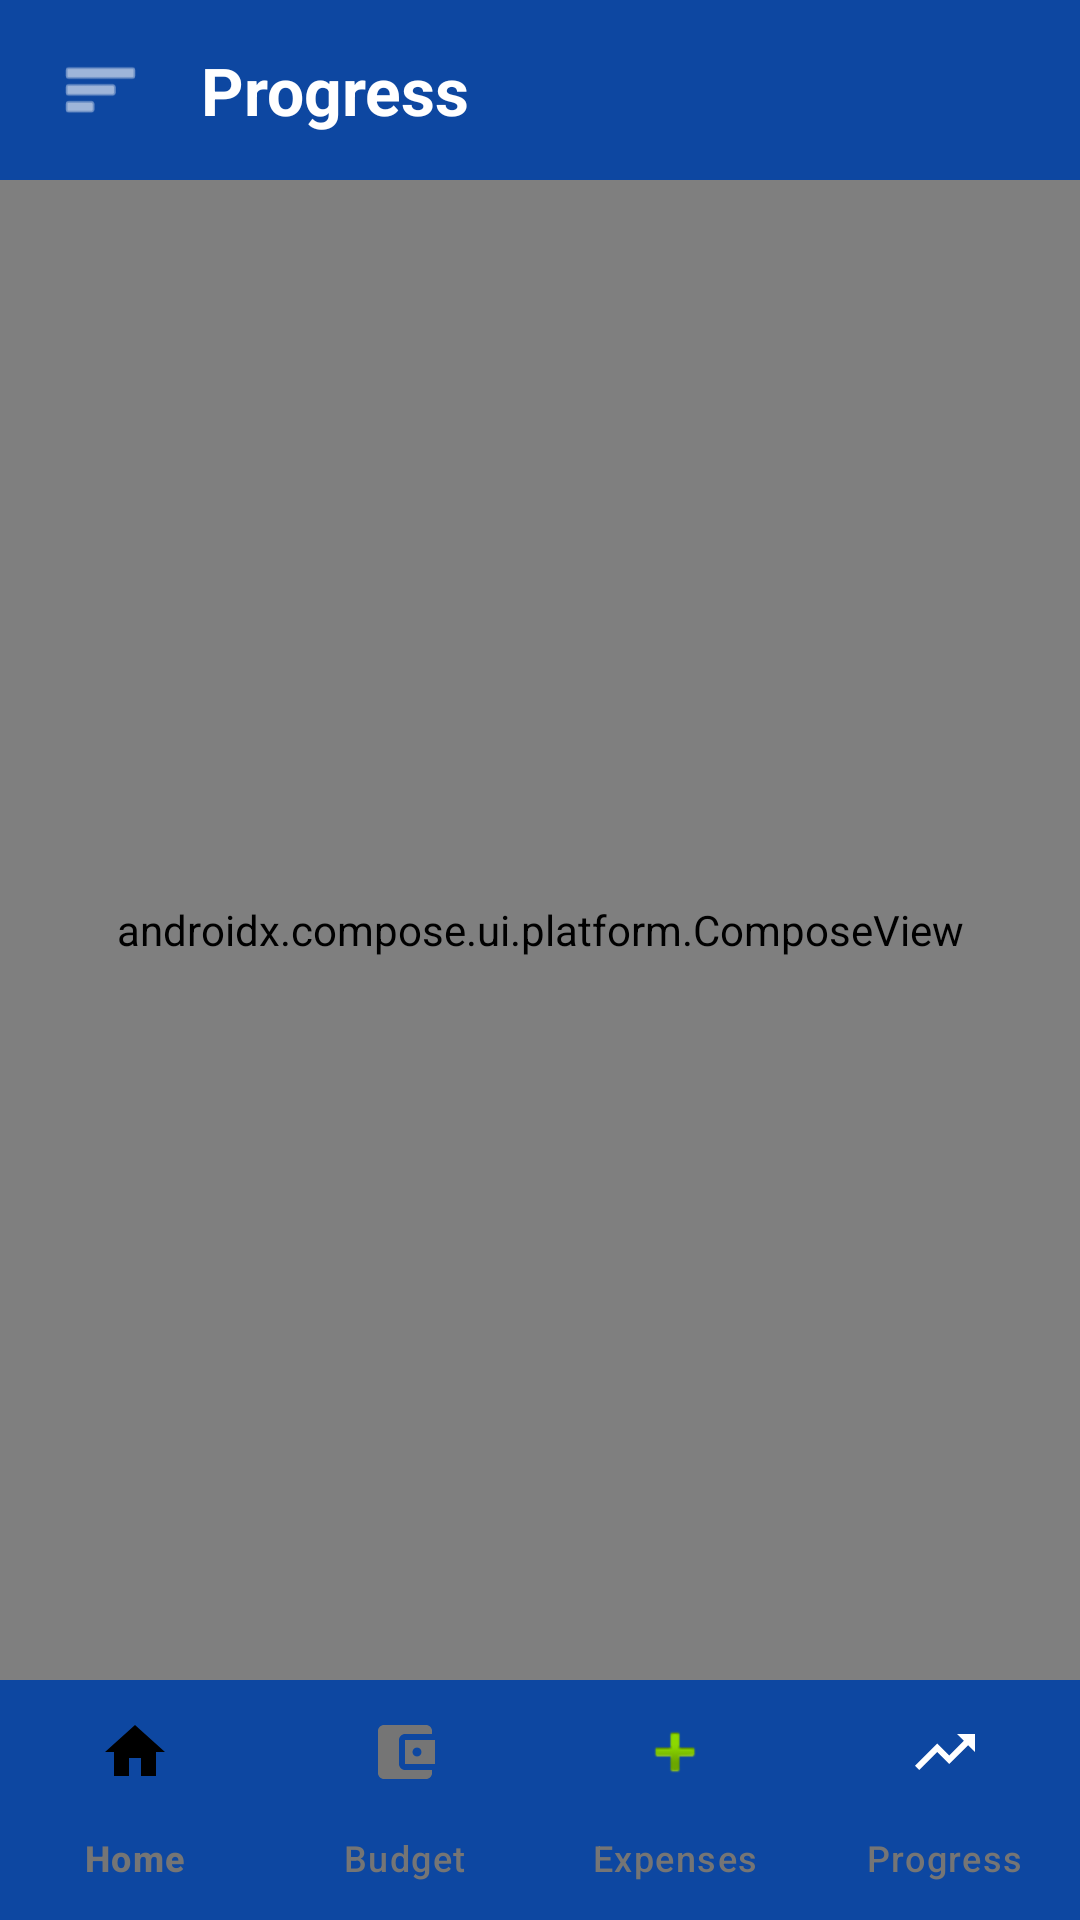

Point at icon controls on the screen. Image size 1080w x 1920h, points as [x,y].
Menu: [100,90]
